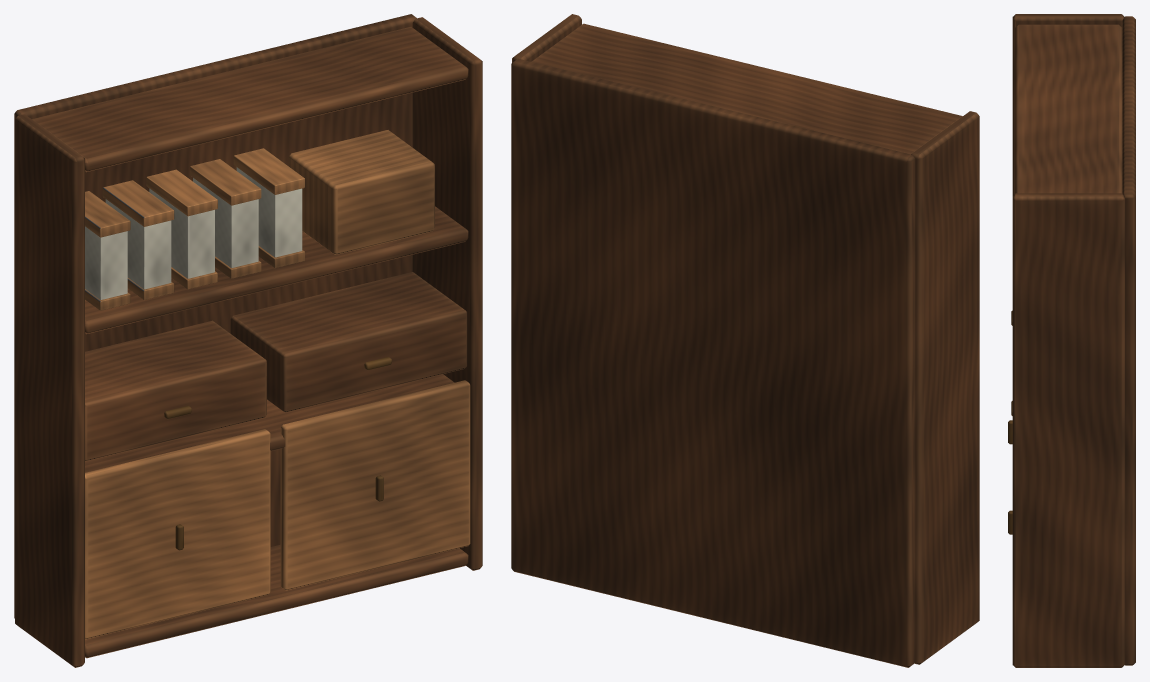
The model's file is Furn_Council_Cabinet.fbx.
3 views of the same model, side by side, from view 1: azimuth 30°, elevation 25°; view 2: azimuth 150°, elevation 25°; view 3: azimuth 270°, elevation 25° (orthographic). The views are drawn at different scales.
Visible parts, largest first — view 1: Furn_Council_Cabinet; view 2: Furn_Council_Cabinet; view 3: Furn_Council_Cabinet.
Boxes of the visible parts, left/top/right/bottom form: Furn_Council_Cabinet: left=14, top=14, right=482, bottom=667; Furn_Council_Cabinet: left=511, top=14, right=979, bottom=667; Furn_Council_Cabinet: left=1008, top=14, right=1135, bottom=667.
Size of the model in its own units: 1.6 by 1.9 by 0.4665.
Materials: 4 (4 with a texture image).
